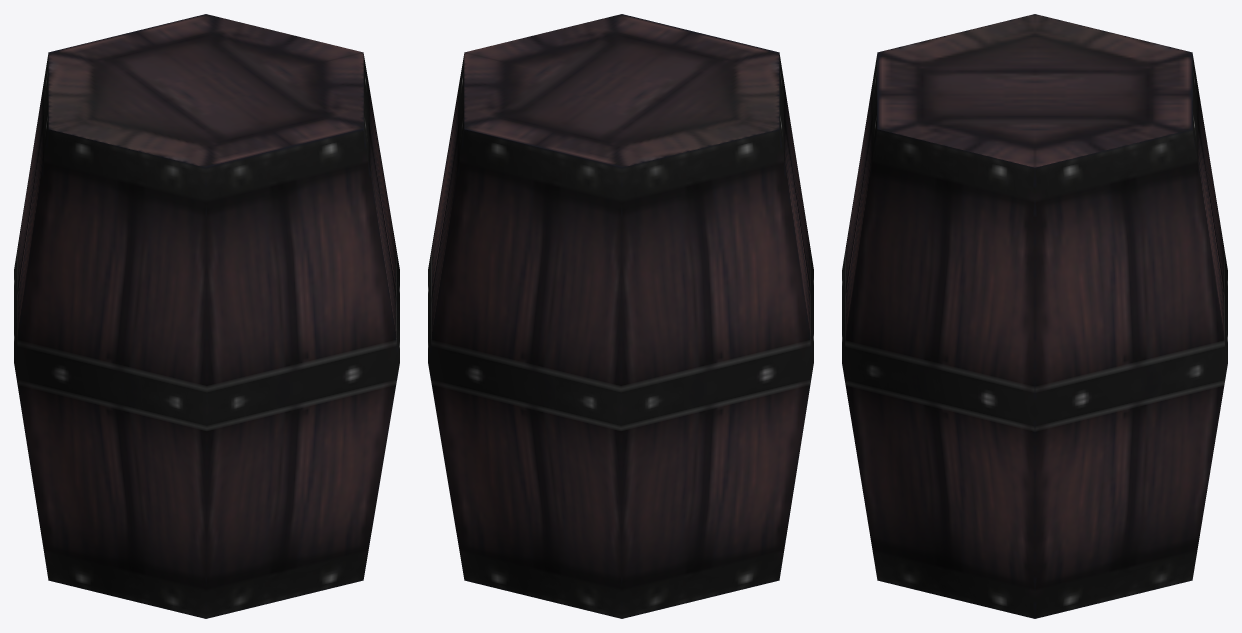
File: Barrel_A.fbx
3 views of the same model, side by side, from view 1: azimuth 30°, elevation 25°; view 2: azimuth 150°, elevation 25°; view 3: azimuth 270°, elevation 25° (orthographic).
Parts seen in each view (by area): view 1: Barrel_A; view 2: Barrel_A; view 3: Barrel_A.
Part boxes in pixels (x1,y1,x2,y2): Barrel_A: [14, 14, 399, 618]; Barrel_A: [428, 14, 813, 618]; Barrel_A: [842, 14, 1227, 618].
Size of the model in its own units: 55.95 by 62.55 by 48.46.
1 material, 1 textured.
